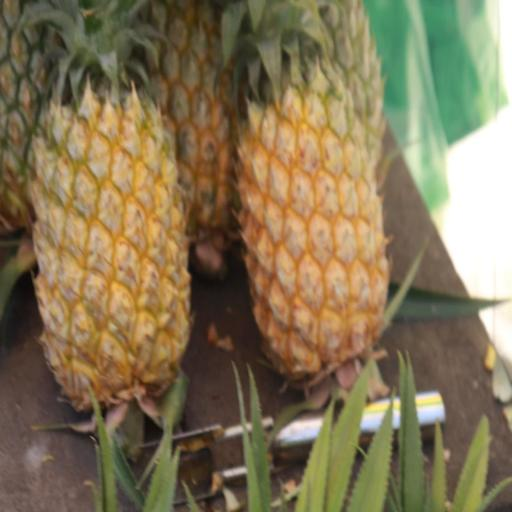Pineapple - v8 v1: (28, 0, 194, 426), (231, 0, 393, 393)
